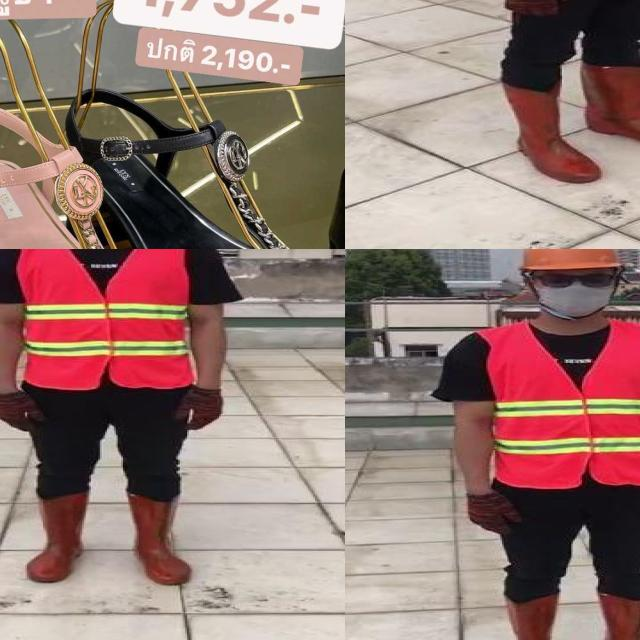Sandals: (37, 47, 345, 249), (0, 83, 231, 249)
boots: (503, 82, 603, 184), (125, 493, 196, 585), (21, 491, 86, 583), (583, 62, 640, 149), (497, 593, 559, 640), (589, 587, 640, 640)
face_mask: (534, 268, 616, 318)
glasses: (528, 269, 622, 291)
hand_glove: (468, 493, 525, 536), (174, 389, 224, 430), (0, 390, 46, 433), (501, 0, 563, 16)
head_helmet: (516, 249, 630, 274)
person: (0, 249, 235, 587), (440, 249, 640, 640), (428, 0, 640, 189)
vest: (473, 318, 640, 487), (12, 249, 194, 389)
